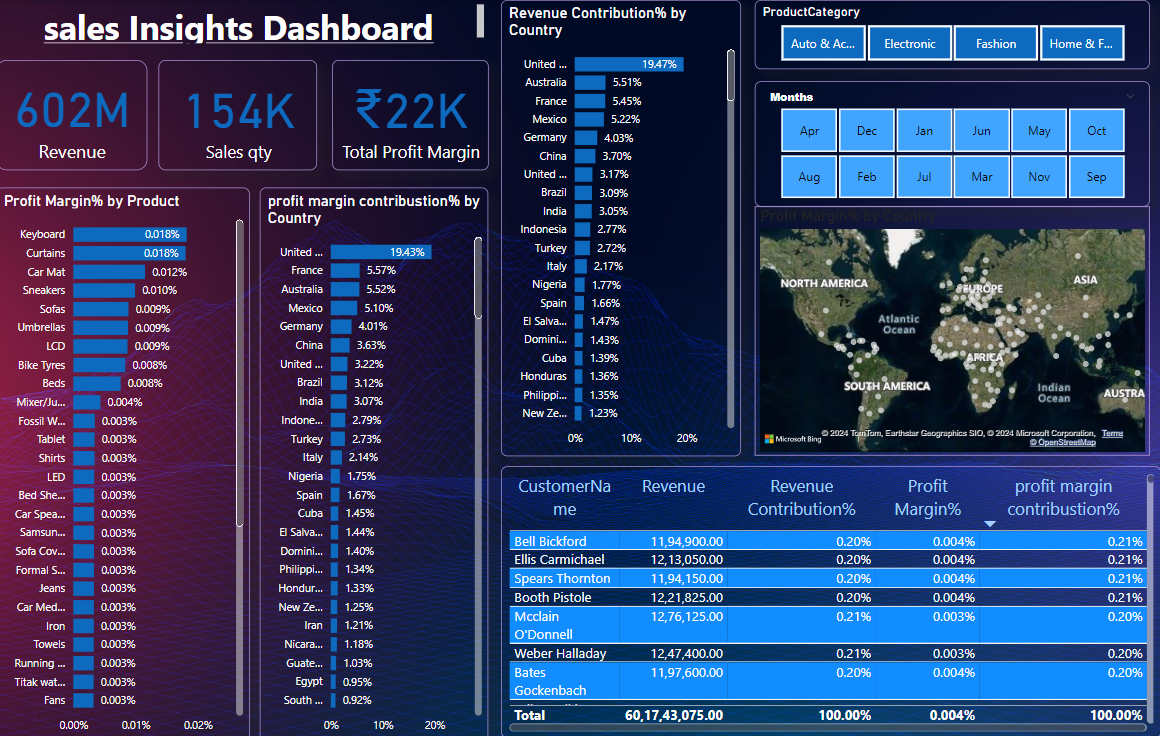

The page's visual inventory and layout, read from the dashboard file:
{"tool":"powerbi","page":{"name":"Profit Anlaysis","canvas":[1294,819],"ordinal":1},"visuals":[{"type":"card","fields":{"Values":["Basemeasure.Revenue"]},"box":[0,66.6,167.9,122.1],"z":0},{"type":"card","fields":{"Values":["Basemeasure.Sales qty"]},"box":[180.3,66.6,176.2,122.1],"z":1000},{"type":"card","fields":{"Values":["Basemeasure.Total Profit Margin"]},"box":[373.2,66.6,173.4,122.1],"z":2000},{"type":"slicer","title":"ProductCategory","fields":{"Values":["sales ecommerece.ProductCategory"]},"box":[844.8,138.7,219.2,76.3],"z":3000},{"type":"barChart","fields":{"Y":["Basemeasure.Profit Margin"],"Category":["sales ecommerece.Country"]},"box":[0,201.1,281.6,617.3],"z":4000},{"type":"barChart","fields":{"Y":["Basemeasure.profit margin contribustion%"],"Category":["sales ecommerece.Country"]},"box":[292.7,208.1,253.9,617.3],"z":5000},{"type":"barChart","fields":{"Y":["Basemeasure.Revenue Contribution%"],"Category":["sales ecommerece.Country"]},"box":[560.4,0,241.4,506.3],"z":6000},{"type":"tableEx","fields":{"Values":["sales ecommerece.CustomerName","Basemeasure.Revenue","Basemeasure.Revenue Contribution%","Basemeasure.Profit Margin%","Basemeasure.profit margin contribustion%"]},"box":[560.6,517.4,733,301.8],"z":7000},{"type":"map","fields":{"Category":["sales ecommerece.Country"]},"box":[841.5,229.5,438.2,276.8],"z":8000},{"type":"textbox","box":[0,0,546.6,52.7],"z":9000},{"type":"slicer","title":"Months","fields":{"Values":["sales ecommerece.Months"]},"box":[1079.3,137.3,215,76.3],"z":10000},{"type":"card","fields":{"Values":["Basemeasure.Profit Margin%"]},"box":[815.7,0,176.2,122.1],"z":11000},{"type":"card","fields":{"Values":["Basemeasure.Revenue Contribution%"]},"box":[1007.1,0,133.2,122.1],"z":12000},{"type":"card","fields":{"Values":["Basemeasure.profit margin contribustion%"]},"box":[1152.8,0,140.1,122.1],"z":13000}]}

Visuals, with their boxes in screenshot pixels (x1, y1, x2, y2), scaled from the page's 1294x819 canvas onto the 1160x736 screenshot:
card - Basemeasure.Revenue: (0, 60, 151, 170)
card - Basemeasure.Sales qty: (162, 60, 320, 170)
card - Basemeasure.Total Profit Margin: (335, 60, 490, 170)
"ProductCategory" slicer: (757, 125, 954, 193)
barChart - Basemeasure.Profit Margin x sales ecommerece.Country: (0, 181, 252, 735)
barChart - Basemeasure.profit margin contribustion% x sales ecommerece.Country: (262, 187, 490, 735)
barChart - Basemeasure.Revenue Contribution% x sales ecommerece.Country: (502, 0, 719, 455)
tableEx - sales ecommerece.CustomerName x Basemeasure.Revenue: (503, 465, 1159, 735)
map - sales ecommerece.Country: (754, 206, 1147, 455)
textbox: (0, 0, 490, 47)
"Months" slicer: (968, 123, 1159, 192)
card - Basemeasure.Profit Margin%: (731, 0, 889, 110)
card - Basemeasure.Revenue Contribution%: (903, 0, 1022, 110)
card - Basemeasure.profit margin contribustion%: (1033, 0, 1159, 110)
